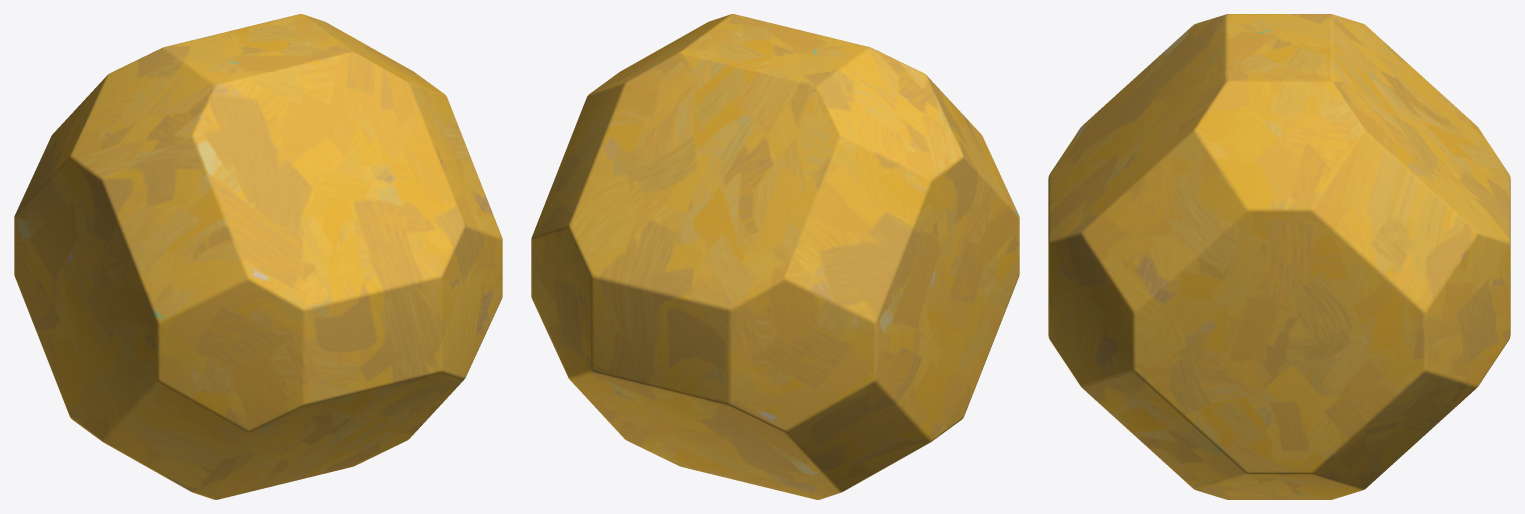
File: animated.glb
The picture shows the model from 3 angles, left to right: view 1: azimuth 30°, elevation 25°; view 2: azimuth 150°, elevation 25°; view 3: azimuth 270°, elevation 25°; orthographic projection.
Parts seen in each view (by area): view 1: Hedra003; view 2: Hedra003; view 3: Hedra003.
Part boxes in pixels (x1,y1,x2,y2): Hedra003: [14, 14, 502, 499]; Hedra003: [531, 14, 1019, 499]; Hedra003: [1048, 14, 1510, 499].
Size of the model in its own units: 2.04 by 2.34 by 2.34.
1 material, 1 textured.
